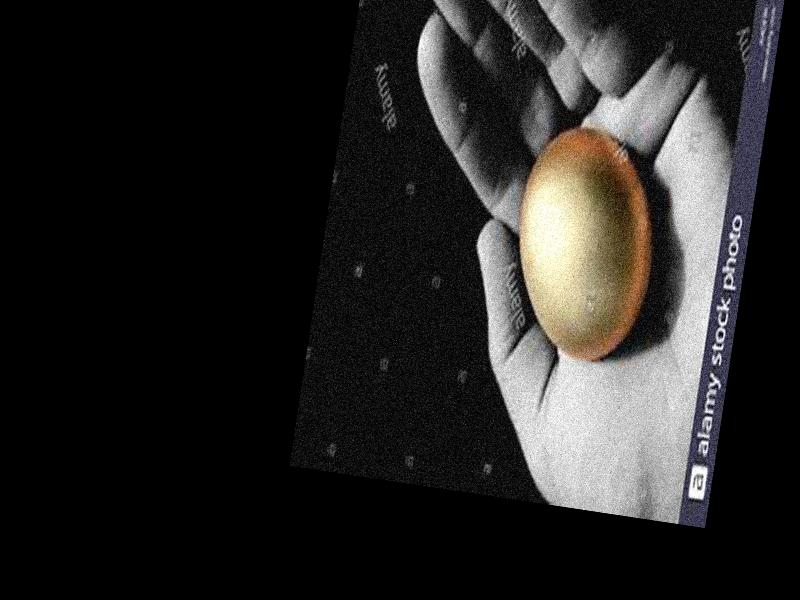Eggs: (501, 119, 667, 364)
